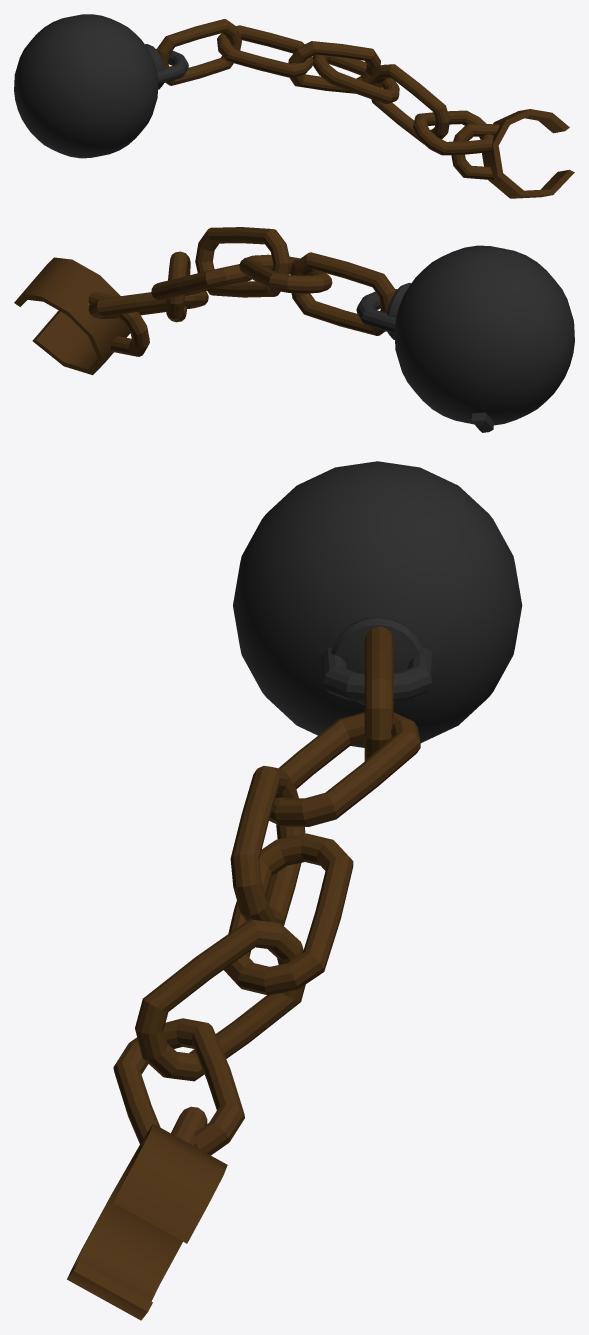
Rendered from ball and chain.fbx.
3 views of the same model, one above another, from view 1: azimuth 30°, elevation 25°; view 2: azimuth 150°, elevation 25°; view 3: azimuth 270°, elevation 25° (orthographic). The views are drawn at different scales.
Visible parts, largest first — view 1: polySurface14; view 2: polySurface14; view 3: polySurface14.
Boxes of the visible parts, x1=… form: polySurface14: x1=14, y1=14, x2=574, y2=198; polySurface14: x1=14, y1=227, x2=574, y2=432; polySurface14: x1=67, y1=461, x2=522, y2=1320.
Size of the model in its own units: 31.14 by 14.05 by 12.62.
